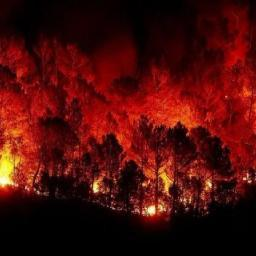Heavy smoke: (0, 0, 255, 177)
Medium fire: (0, 127, 256, 221)
